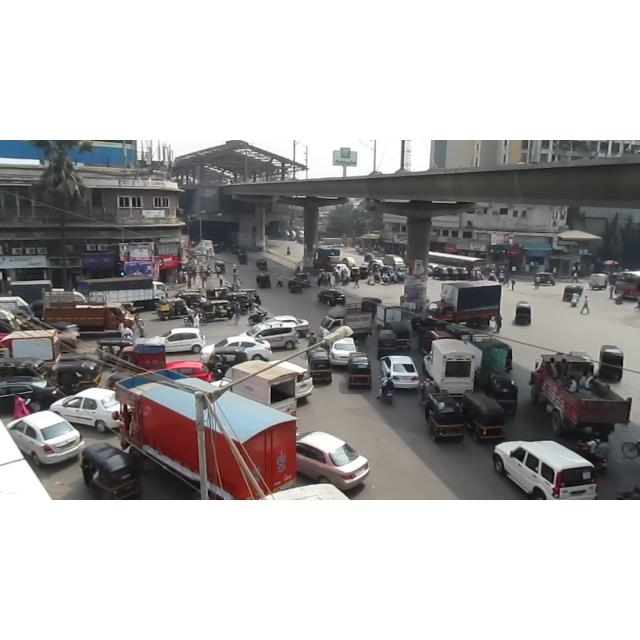auto: (74, 442, 150, 500), (423, 390, 472, 442), (598, 345, 627, 385), (533, 274, 562, 290), (516, 301, 530, 327), (256, 259, 272, 274)
truck: (100, 360, 312, 500), (533, 348, 633, 442), (422, 276, 506, 331), (74, 271, 187, 311), (42, 291, 138, 332), (0, 329, 66, 367)
